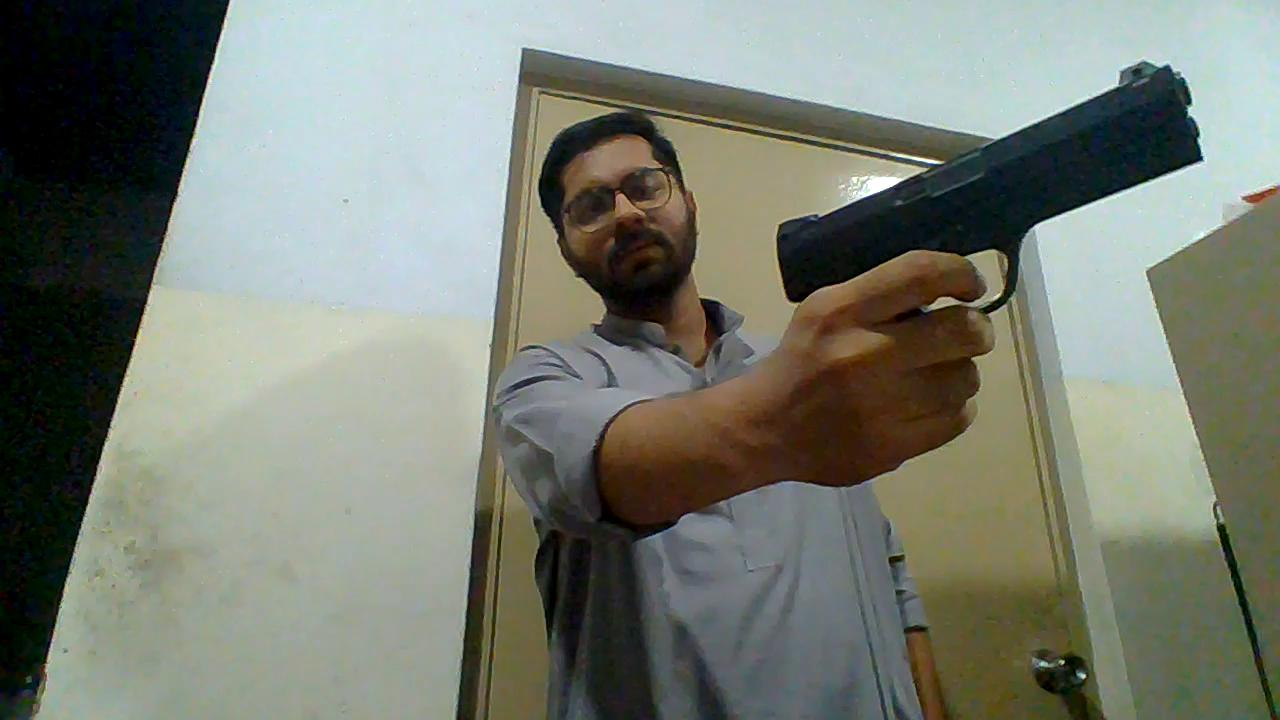criminal: (490, 57, 1206, 720)
weapon: (776, 60, 1207, 322)
